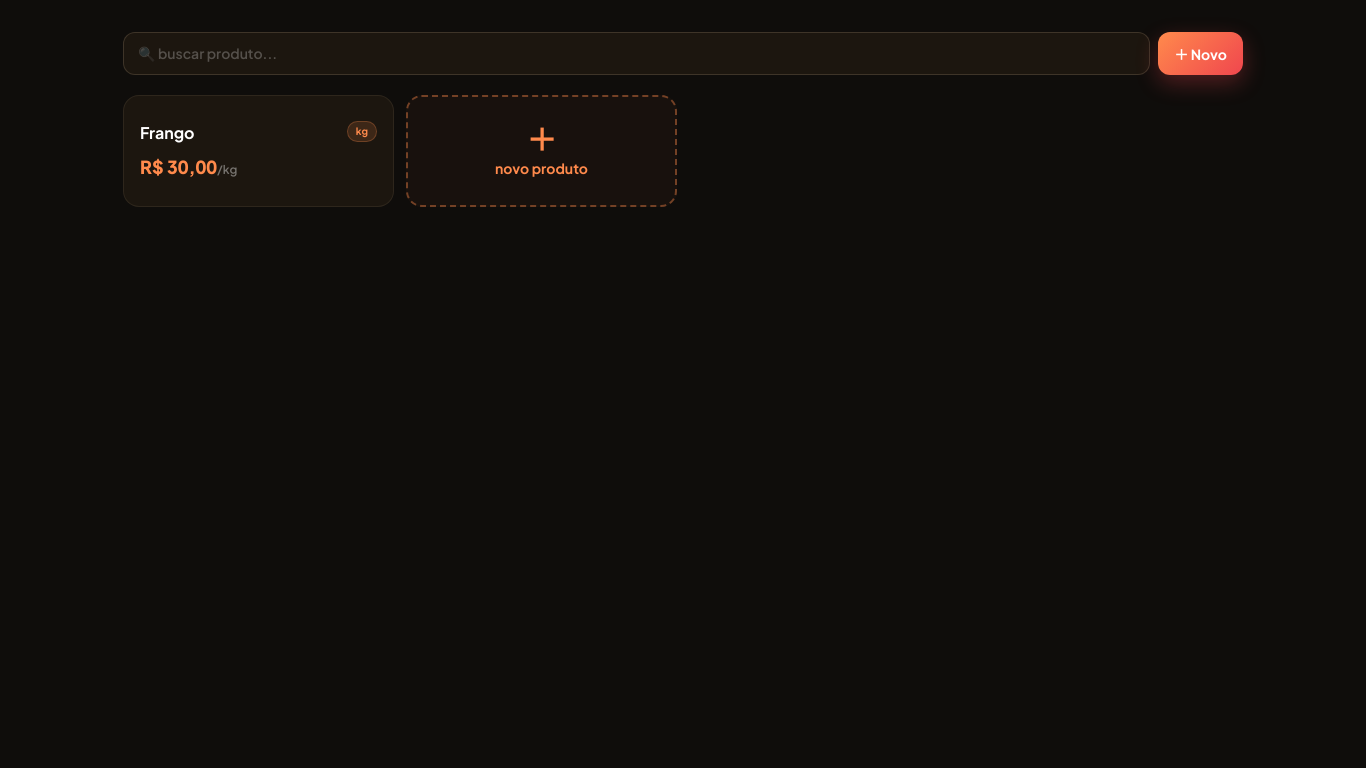
Produtos — excluir › avisa (sem apagar) quando o produto tem lançamentos vinculados
Click the text "Frango" at [167, 133], box [140, 121, 194, 145]
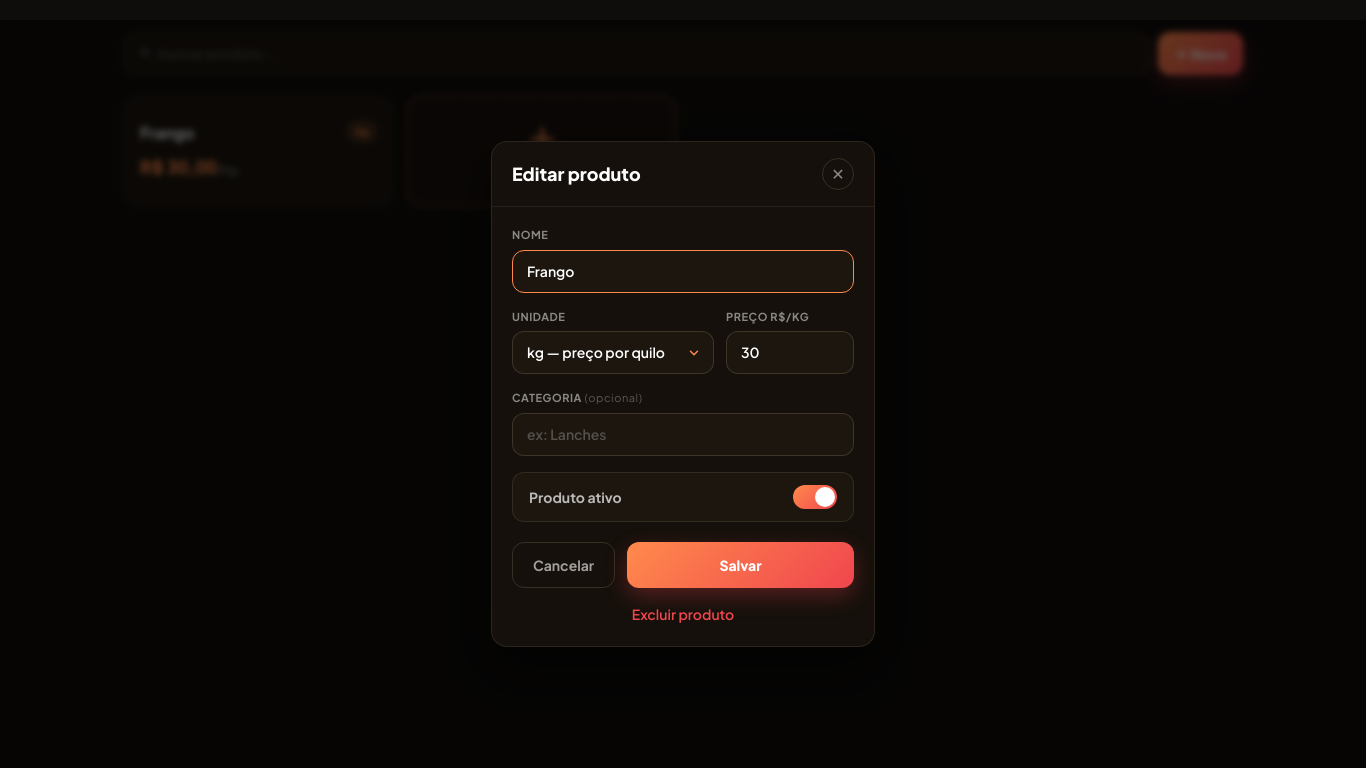
Click the button "Excluir produto" at [683, 614], box [512, 604, 854, 624]
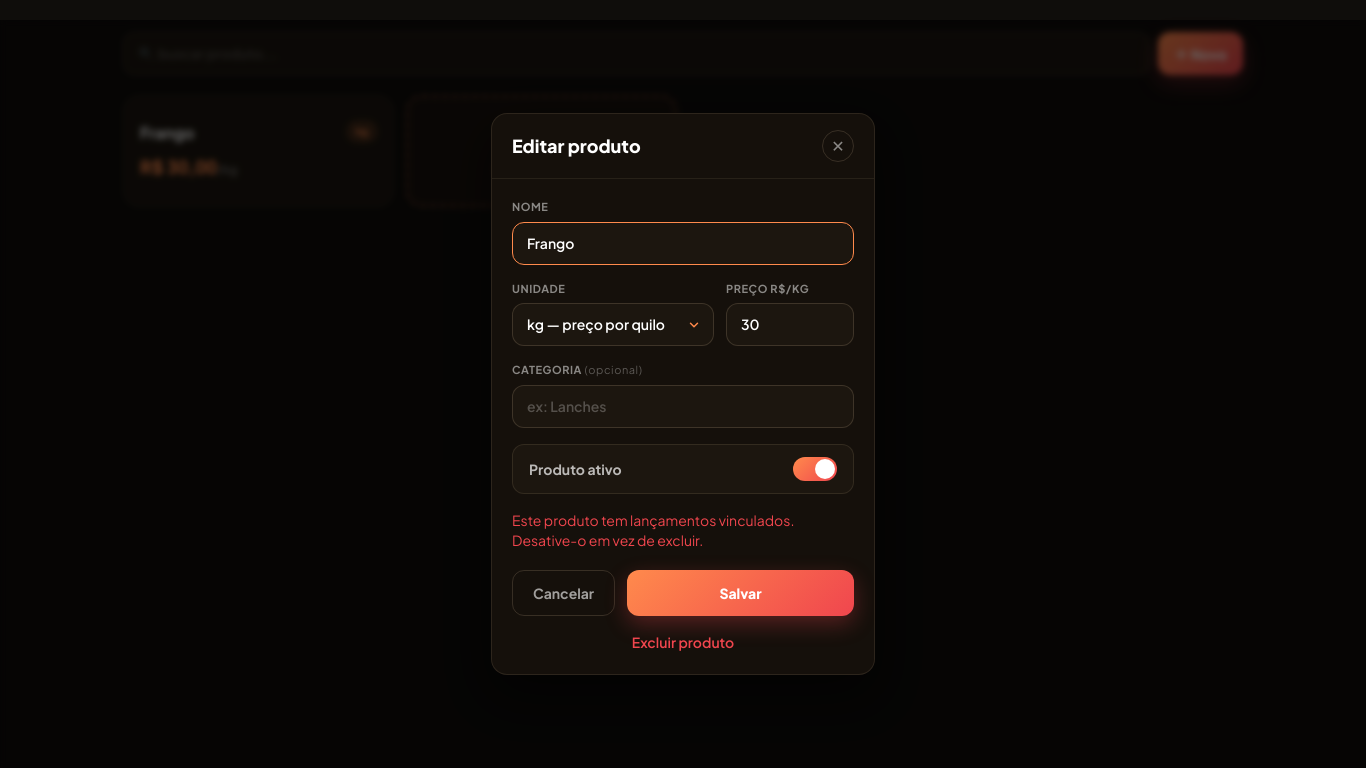
expect the text "lançamentos vinculados" is shown: met, box [512, 511, 794, 549]
